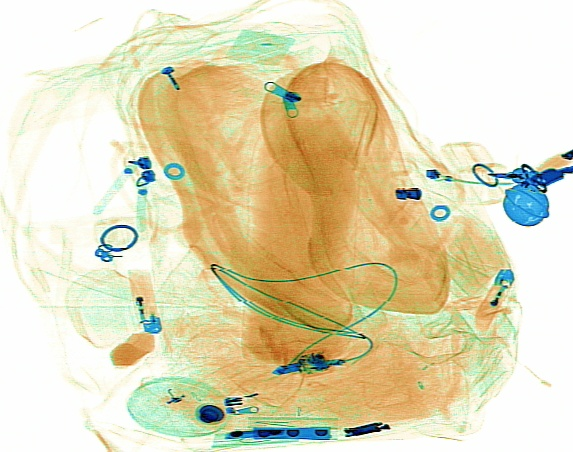lighter: (471, 269, 515, 332), (126, 265, 160, 332)
